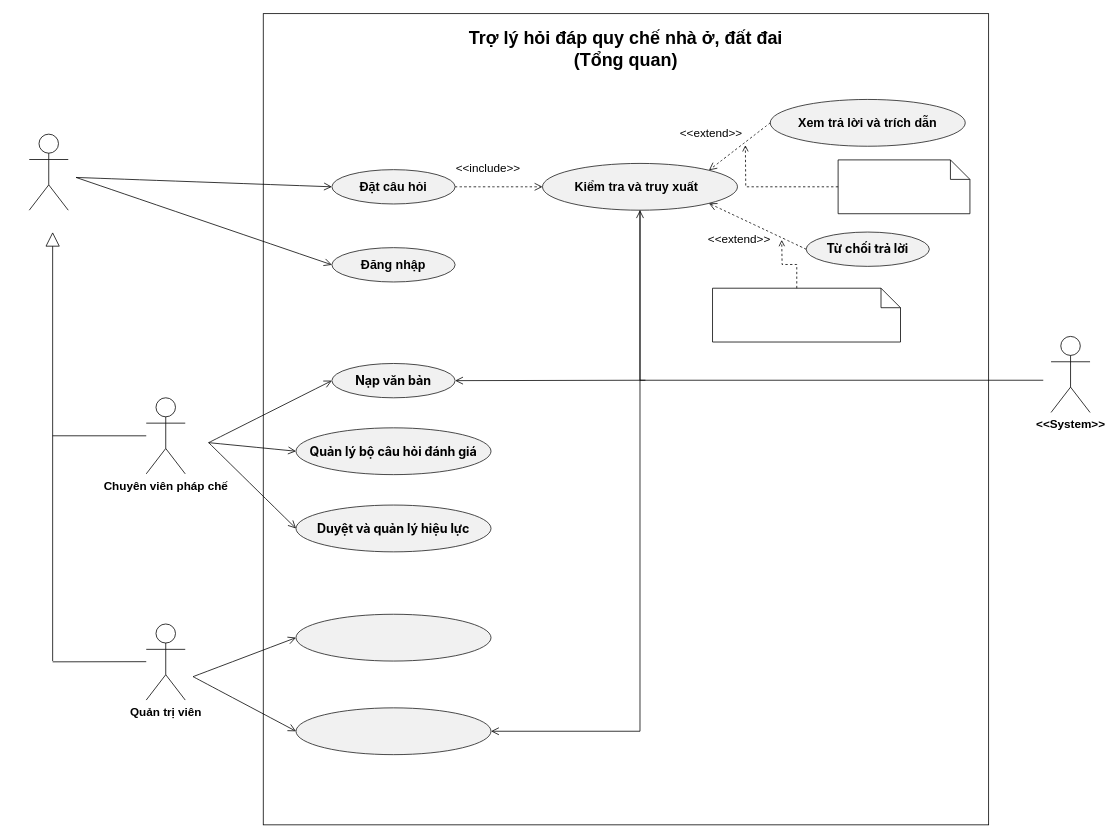
This 1118x838 diagram has some shape labels left out. Here are the shapes that lost their labels. From the top down, the centre of each, then its label:
(48,171): Người dùng
(903,186): Nếu đủ bằng chứng
(806,314): Nếu không đủ bằng chứng
(393,637): Phân quyền và xem log
(393,731): Chạy đánh giá
